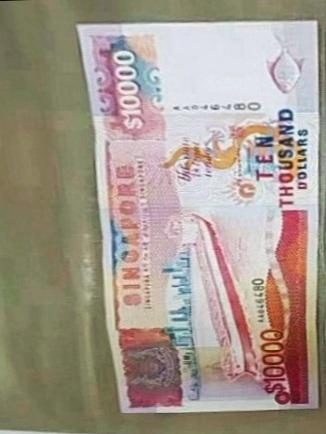10000SingaporeDollar: (104, 26, 316, 407)
